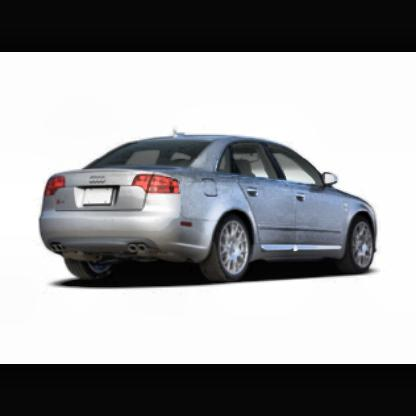Audi S4 Sedan 2007: (40, 131, 378, 286)
